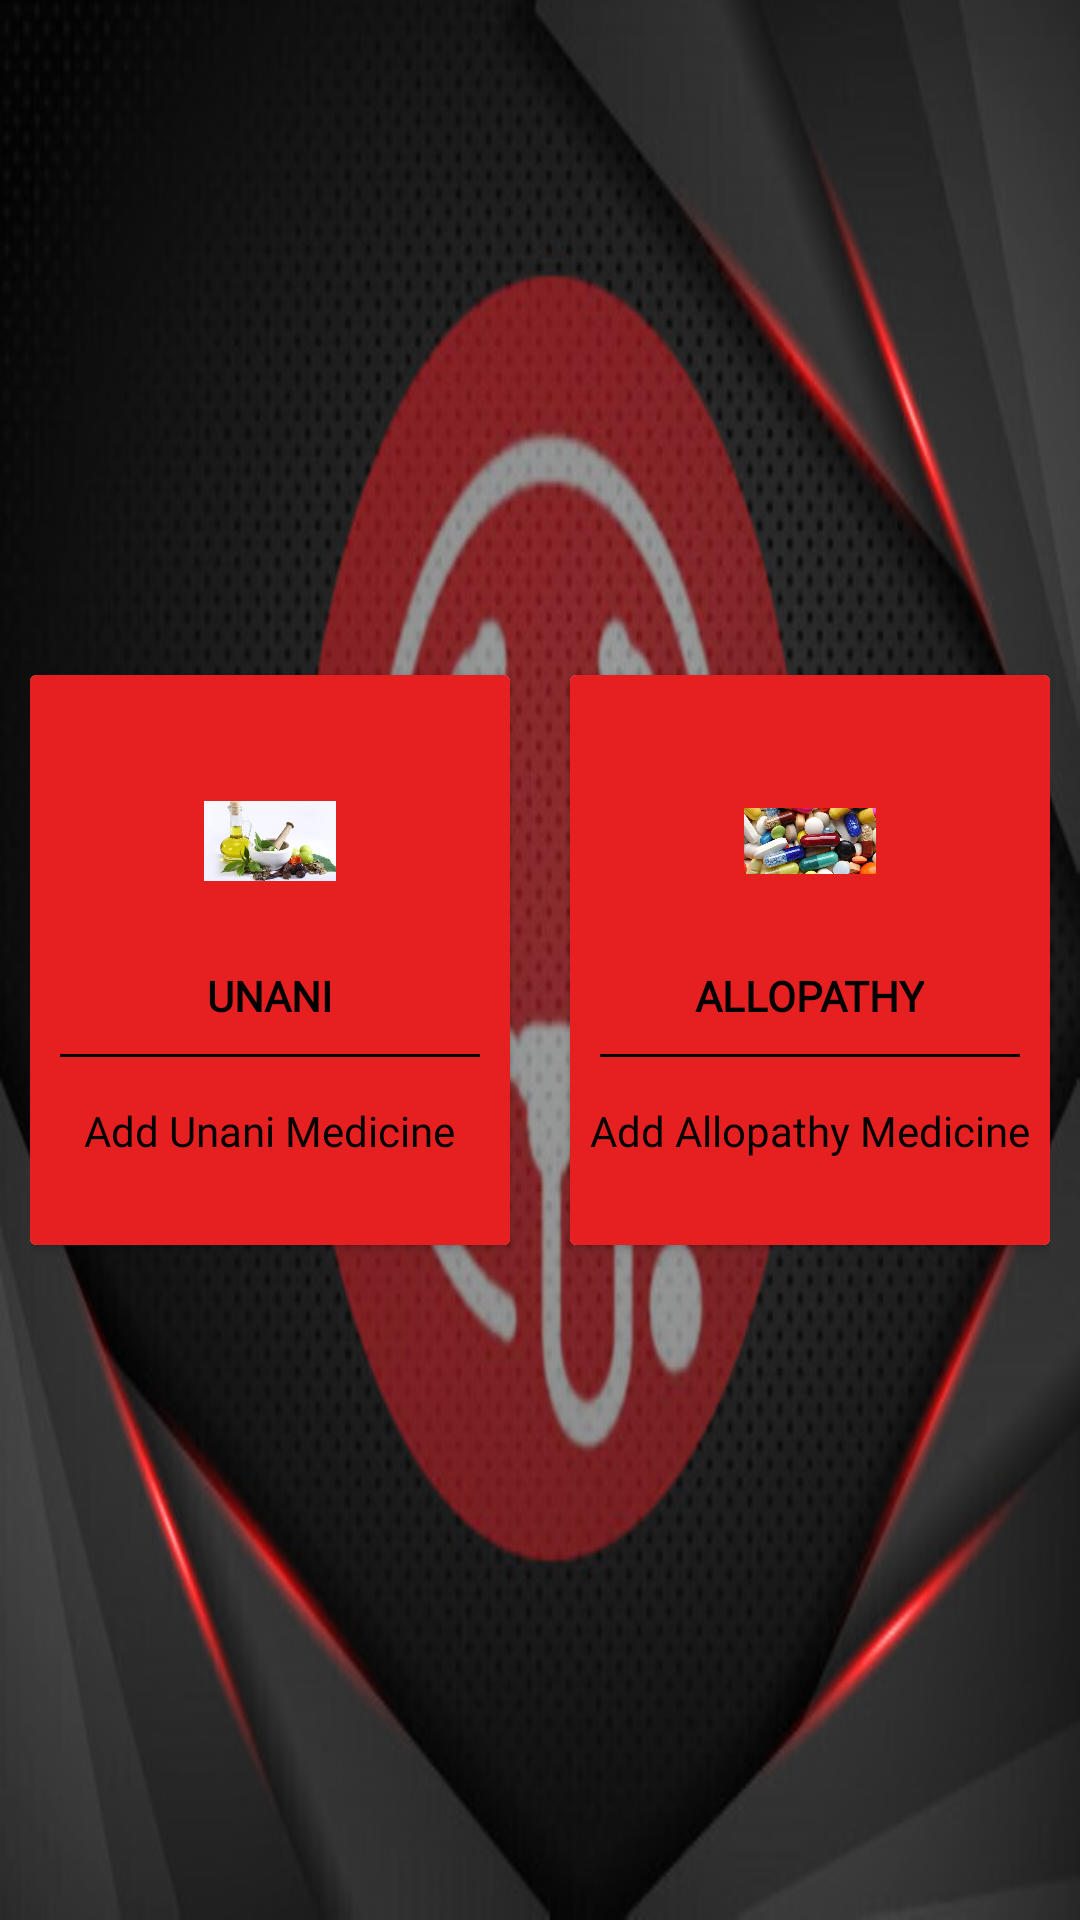

Named icons in this screenshot (1080px×1920px) and their bounding boxes, (x1, y1, x2, y2):
allomed: (744, 808, 876, 874)
